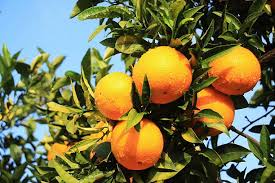orange: (135, 43, 193, 103), (109, 115, 164, 171), (206, 41, 263, 94), (185, 90, 236, 138), (95, 73, 135, 118)
